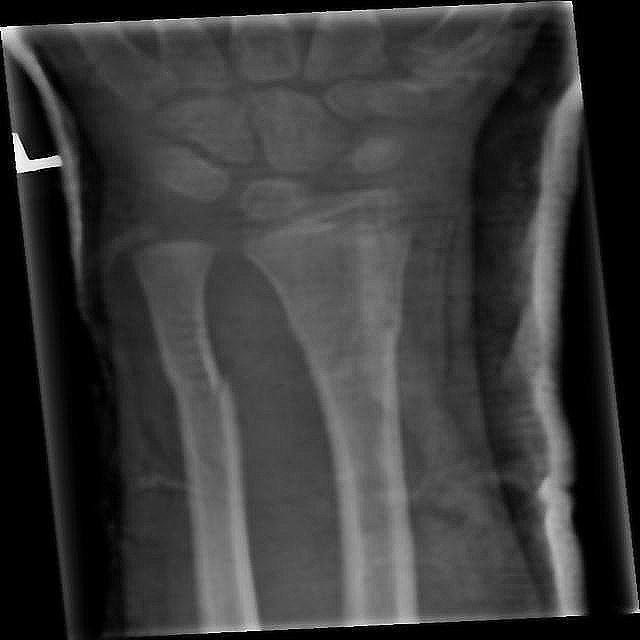bone: (158, 338, 240, 412), (282, 304, 405, 351)
